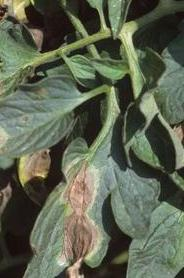Tomato leaf late blight: (17, 88, 159, 278), (0, 81, 90, 166)
